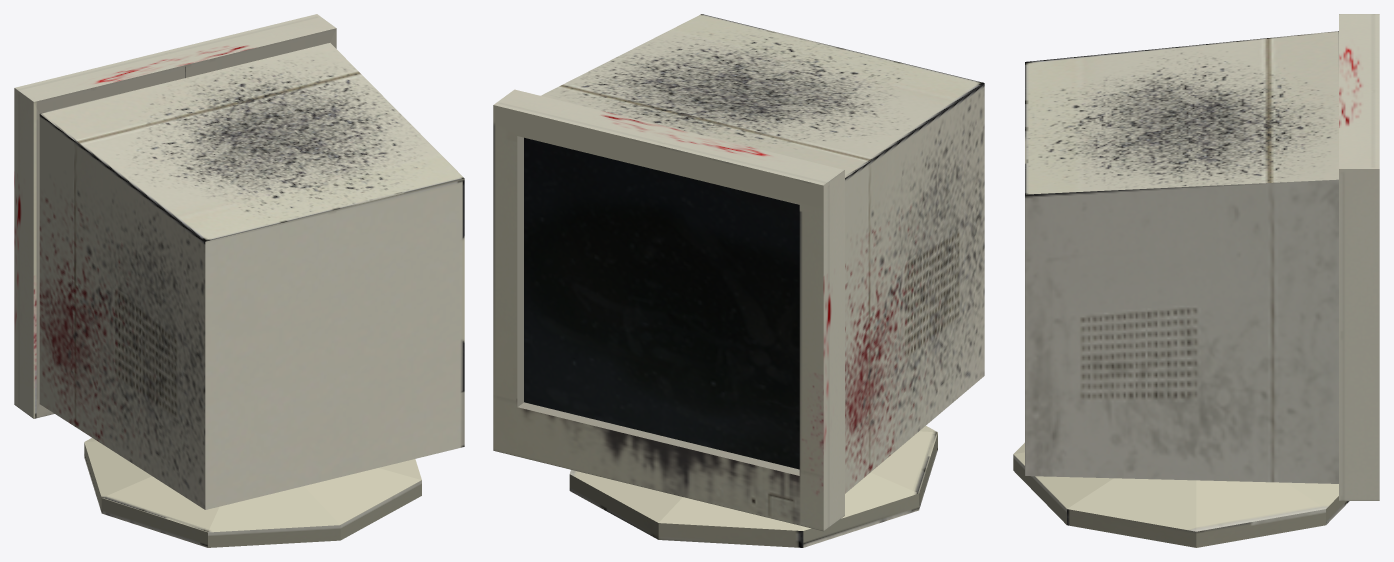
Rendered from monikmenu.fbx.
The picture shows the model from 3 angles, left to right: view 1: azimuth 30°, elevation 25°; view 2: azimuth 150°, elevation 25°; view 3: azimuth 270°, elevation 25°; orthographic projection. The views are drawn at different scales.
Parts seen in each view (by area): view 1: Cube; view 2: Cube; view 3: Cube.
Boxes of the visible parts, <box> form: Cube: <box>14,14,464,547</box>; Cube: <box>493,14,984,547</box>; Cube: <box>1013,14,1379,547</box>.
Bounding box in the file's own units: 200 × 228 × 200.
